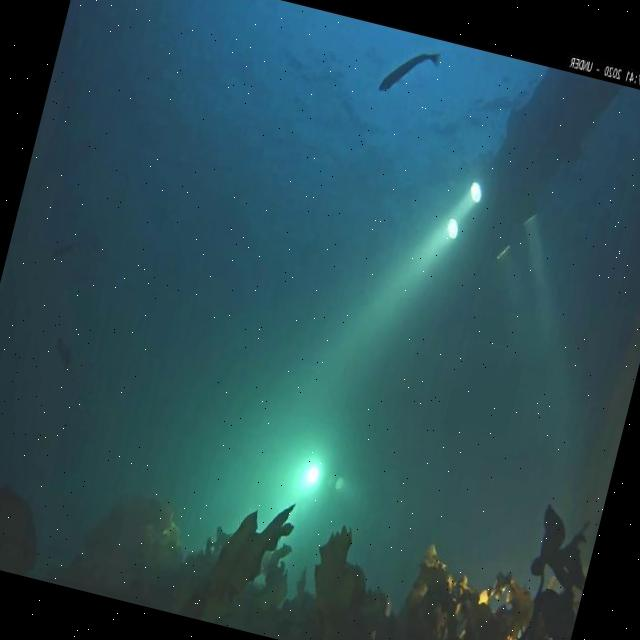fish: (376, 36, 443, 105)
